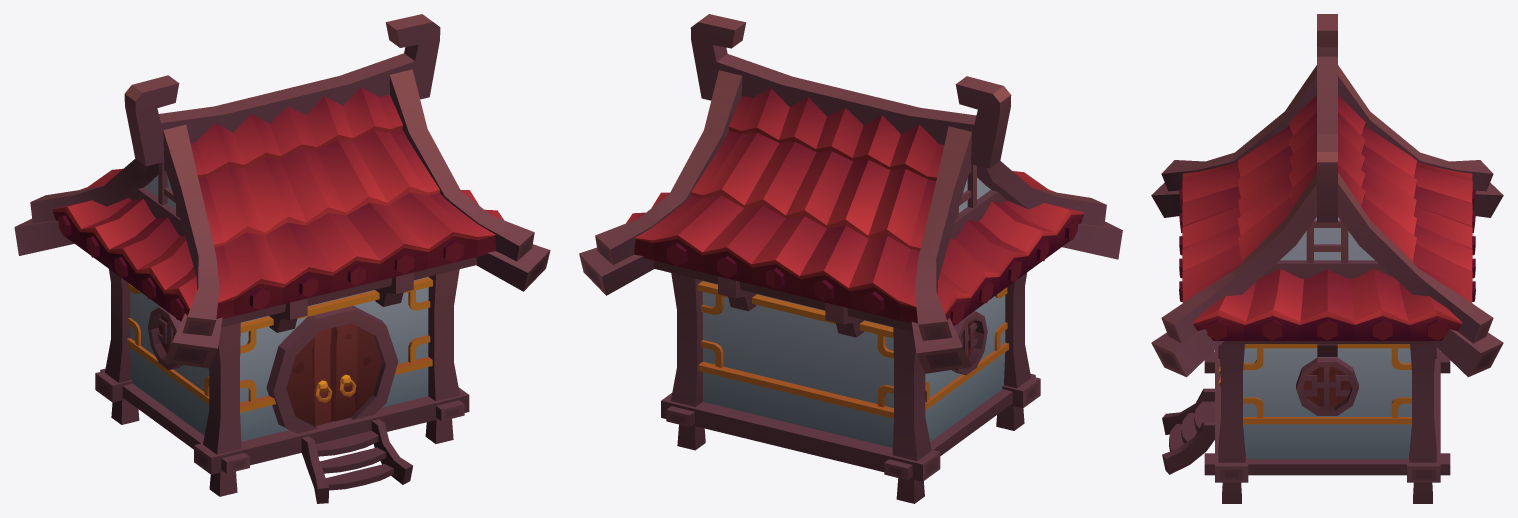
The model's file is building_3.glb.
3 renders of one model, left to right at view 1: azimuth 30°, elevation 25°; view 2: azimuth 150°, elevation 25°; view 3: azimuth 270°, elevation 25°, orthographic. The views are drawn at different scales.
Visible parts, largest first — view 1: building_3; view 2: building_3; view 3: building_3.
Boxes of the visible parts, box(x1,y1,x2,y2) form: building_3: box(14, 14, 550, 503); building_3: box(579, 14, 1122, 503); building_3: box(1151, 14, 1503, 503).
Bounding box in the file's own units: 3.67 × 3.49 × 3.01.
1 material, 1 textured.
